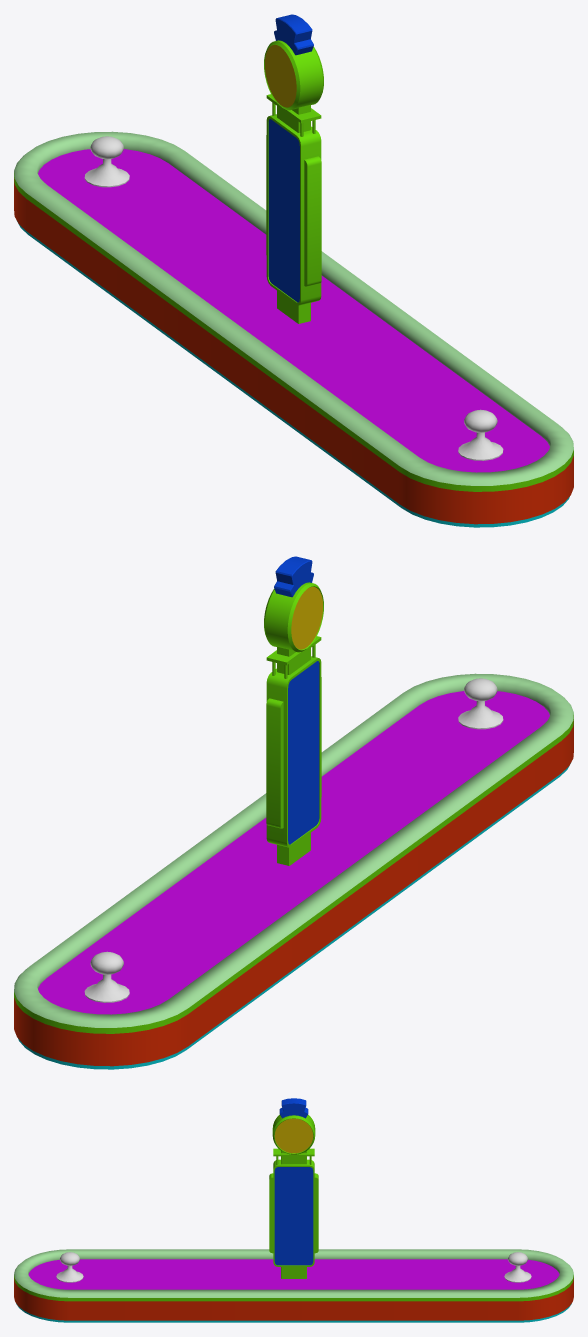
File: Planter_A_01.fbx
The picture shows the model from 3 angles, top to bottom: view 1: azimuth 30°, elevation 25°; view 2: azimuth 150°, elevation 25°; view 3: azimuth 270°, elevation 25°; orthographic projection. The views are drawn at different scales.
Visible parts, largest first — view 1: Planter_Body, Clock, Spreader; view 2: Planter_Body, Clock, Spreader; view 3: Planter_Body, Clock, Spreader.
Part boxes in pixels (x1,y1,x2,y2): Planter_Body: (14, 131, 573, 527); Clock: (264, 14, 323, 323); Spreader: (84, 136, 503, 460); Planter_Body: (14, 673, 573, 1069); Clock: (264, 556, 323, 865); Spreader: (84, 678, 503, 1002); Planter_Body: (14, 1249, 573, 1322); Clock: (269, 1098, 318, 1278); Spreader: (56, 1252, 531, 1282).
Size of the model in its own units: 200 by 392 by 1000.
